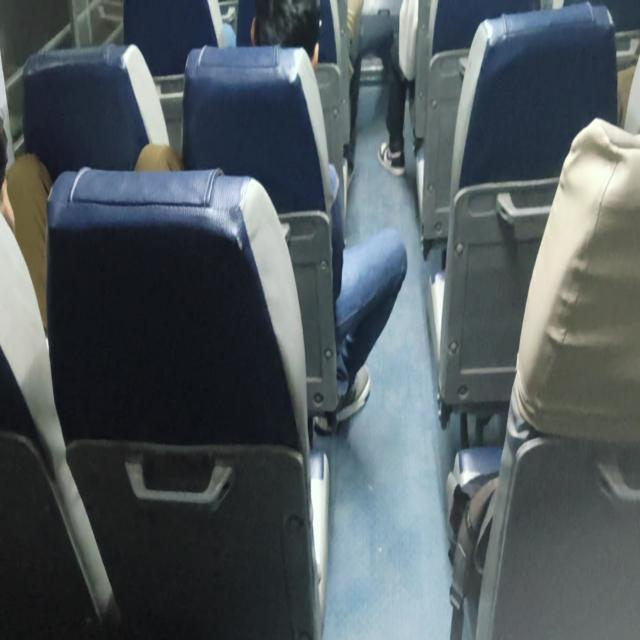person: (247, 1, 408, 424), (0, 114, 53, 337), (344, 0, 409, 178)
